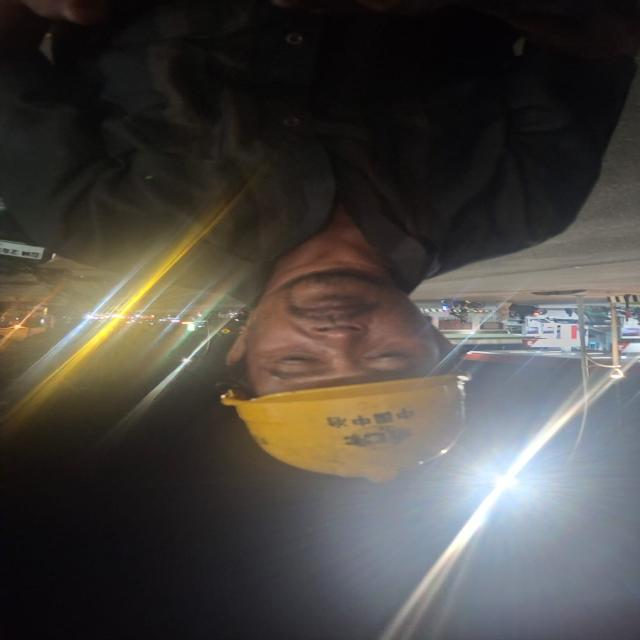safetyhelmet: (215, 269, 485, 485)
